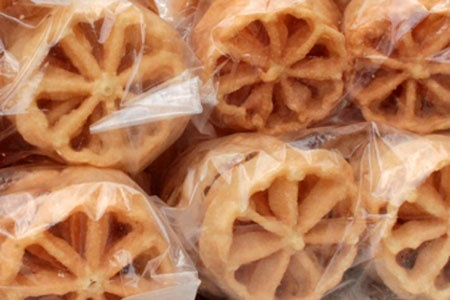kembang_goyang: (193, 135, 360, 299)
